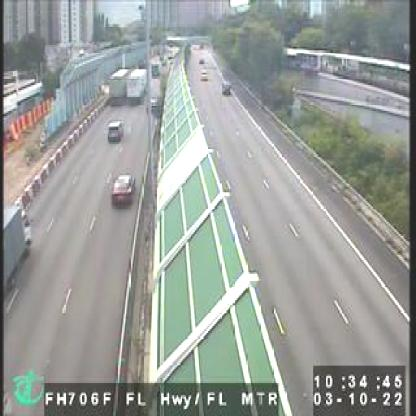Car: (112, 174, 132, 206), (108, 119, 121, 140), (221, 80, 230, 94), (200, 68, 207, 82)
Truck: (126, 68, 146, 102), (109, 68, 126, 104)
